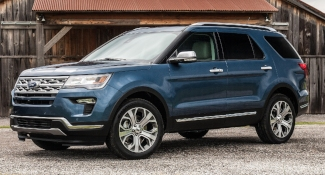Ford Explorer: (8, 19, 311, 161)
